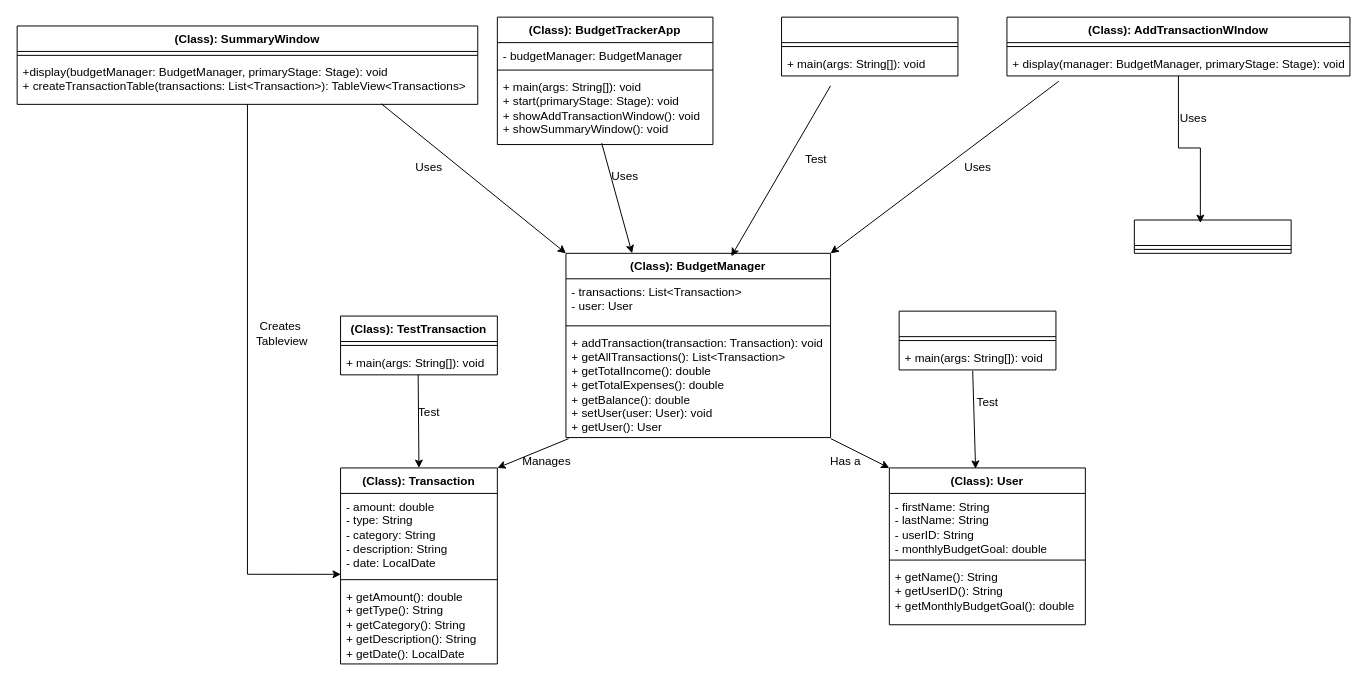
Some shapes in this 1367 by 684 pixel diagram are drawn without their labels. The box of each missing label's shape, as (x1, y1, x2, y2) in pixels:
(Class): Stage: (1133, 219, 1291, 253)
(Class): TestBudgetManager: (781, 16, 958, 76)
(Class): TestUser: (898, 310, 1056, 370)
